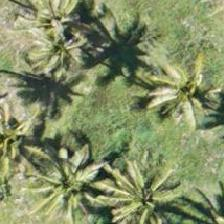coconut_tree: (21, 3, 111, 93), (26, 139, 116, 223), (143, 46, 223, 136), (100, 157, 190, 223), (12, 0, 102, 66), (0, 99, 50, 189)
